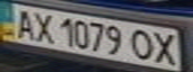0: (69, 17, 90, 50)
1: (54, 15, 75, 47)
7: (87, 19, 106, 53)
9: (103, 22, 127, 56)
A: (9, 7, 39, 40)
O: (127, 27, 157, 61)
X: (148, 29, 181, 66), (30, 10, 57, 44)
